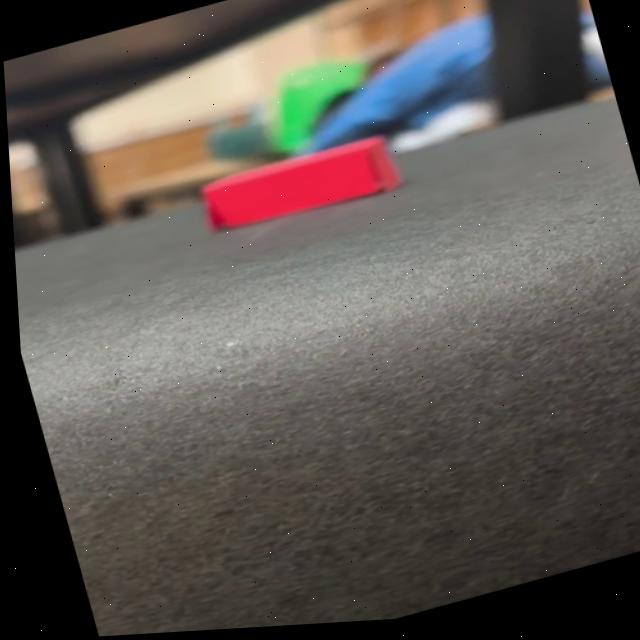red block: (193, 127, 407, 239)
